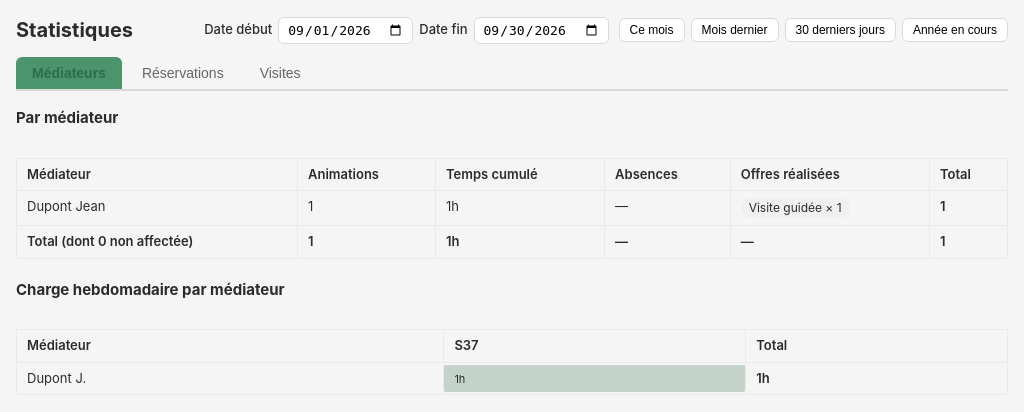
Test: StatsView › changes the period and recomputes
This screenshot has width=1024, height=412.
Check: the text "Dupont Jean" is shown, box top-left (16, 190), bottom-right (298, 226)
// Move the start date after all slots: no data left
Type "2026-10-01" into the date field labelled "Date début".
click(346, 30); type("2026-10-01")  # box top-left (278, 16), bottom-right (413, 44)
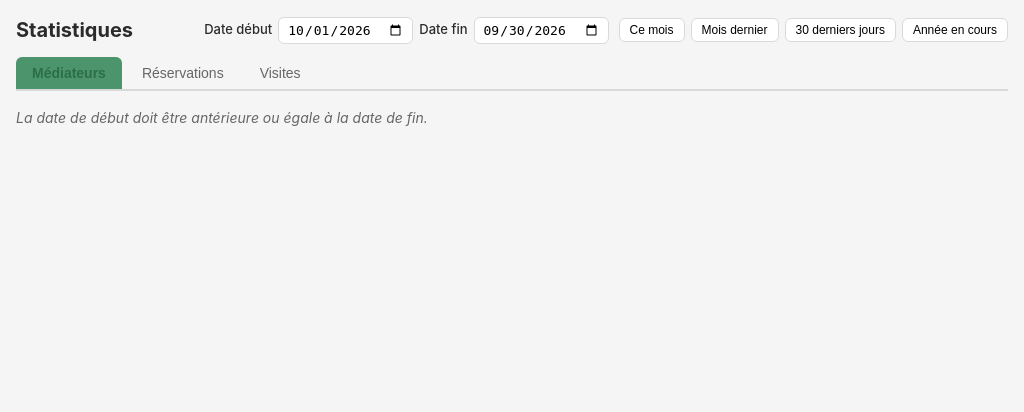
Check: the text "Dupont Jean" is gone
